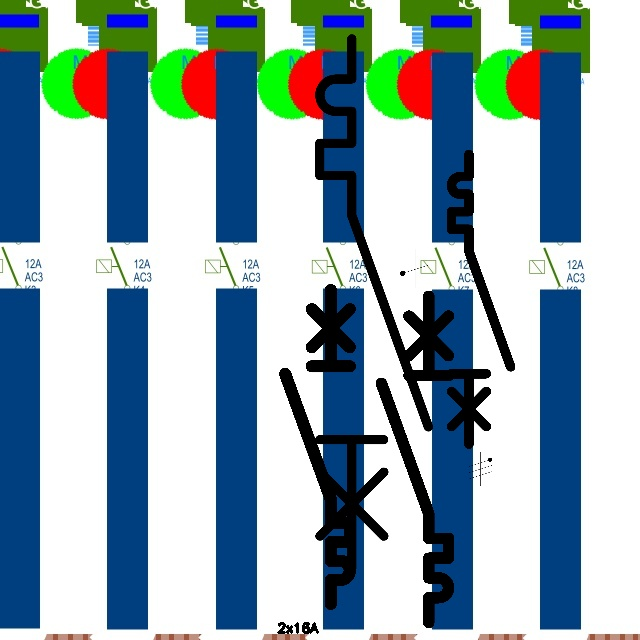interruptor_termomagnetico: (306, 25, 442, 582), (373, 287, 457, 631), (277, 282, 358, 612), (444, 147, 518, 452)
